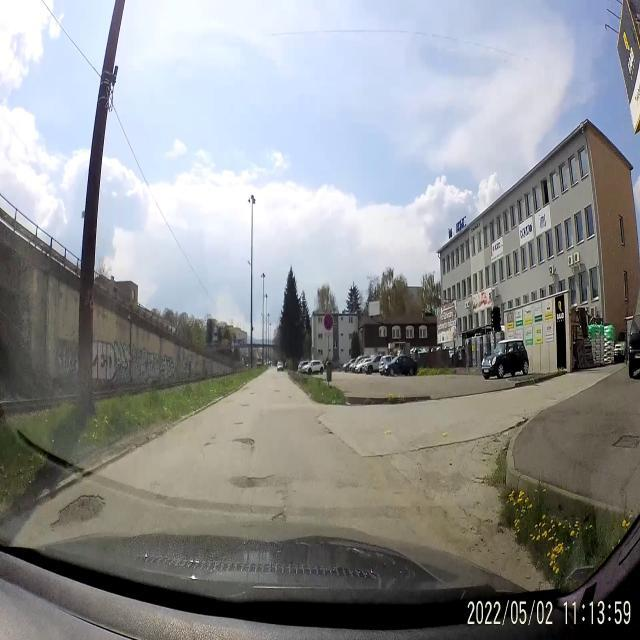Pothole: (52, 476, 108, 536), (226, 459, 276, 494), (226, 427, 258, 455), (269, 499, 290, 529), (314, 412, 336, 440)
